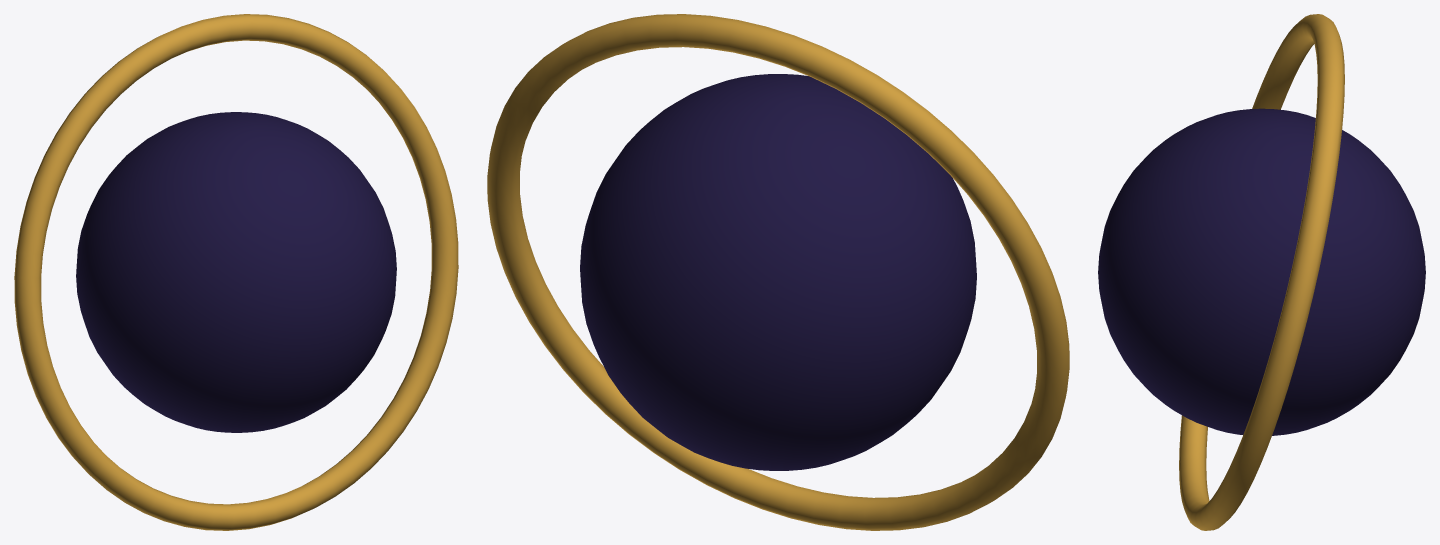
The model's file is orb_navy.glb.
3 views of the same model, side by side, from view 1: azimuth 30°, elevation 25°; view 2: azimuth 150°, elevation 25°; view 3: azimuth 270°, elevation 25° (orthographic). The views are drawn at different scales.
Visible parts, largest first — view 1: orb_navy; view 2: orb_navy; view 3: orb_navy.
Boxes of the visible parts, x1,y1,x2,y2 form: orb_navy: [14, 14, 458, 530]; orb_navy: [487, 14, 1069, 530]; orb_navy: [1098, 14, 1425, 530].
Size of the model in its own units: 1.94 by 1.87 by 1.2.
